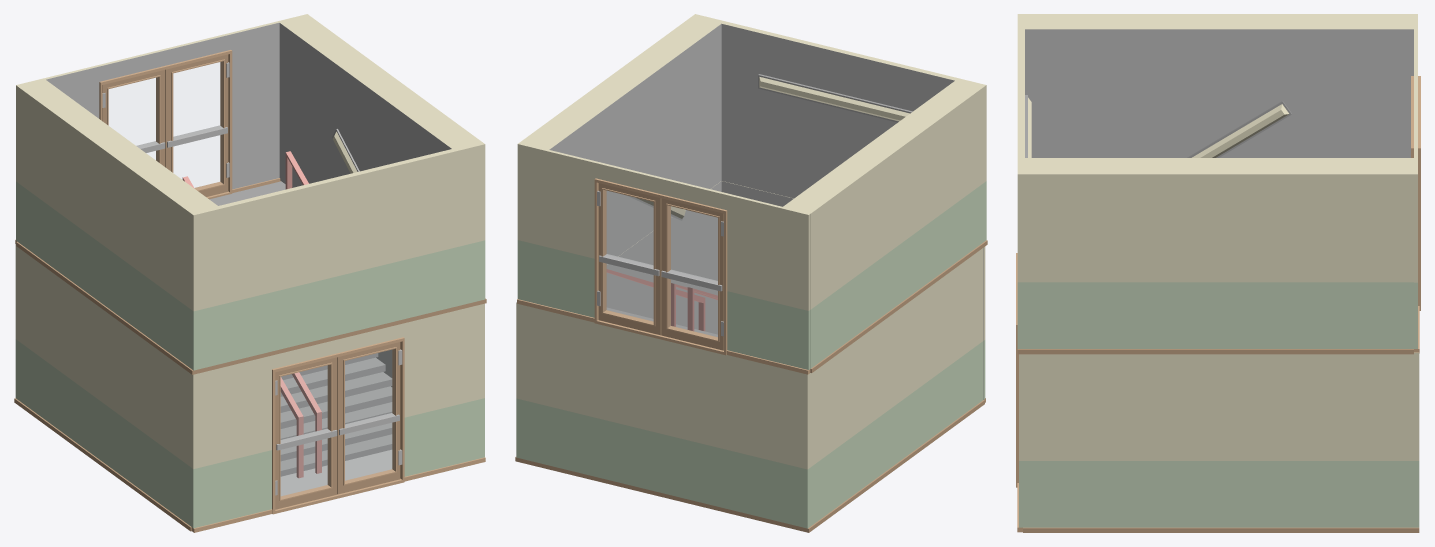
File: stairs2.fbx
3 views of the same model, side by side, from view 1: azimuth 30°, elevation 25°; view 2: azimuth 150°, elevation 25°; view 3: azimuth 270°, elevation 25° (orthographic). The views are drawn at different scales.
Parts seen in each view (by area): view 1: Cloner, Cube_37_2, Cube_35_2, Cube_35, Cube_37; view 2: Cloner, Cube_35, Cube_37; view 3: Cloner.
Boxes of the visible parts, x1,y1,x2,y2 form: Cloner: [14, 14, 486, 532]; Cube_37_2: [337, 342, 402, 494]; Cube_35_2: [275, 357, 337, 509]; Cube_35: [165, 54, 229, 196]; Cube_37: [102, 70, 165, 166]; Cloner: [515, 14, 987, 532]; Cube_35: [597, 183, 661, 335]; Cube_37: [661, 198, 723, 350]; Cloner: [1016, 14, 1420, 532].
Size of the model in its own units: 173 by 178 by 183.
